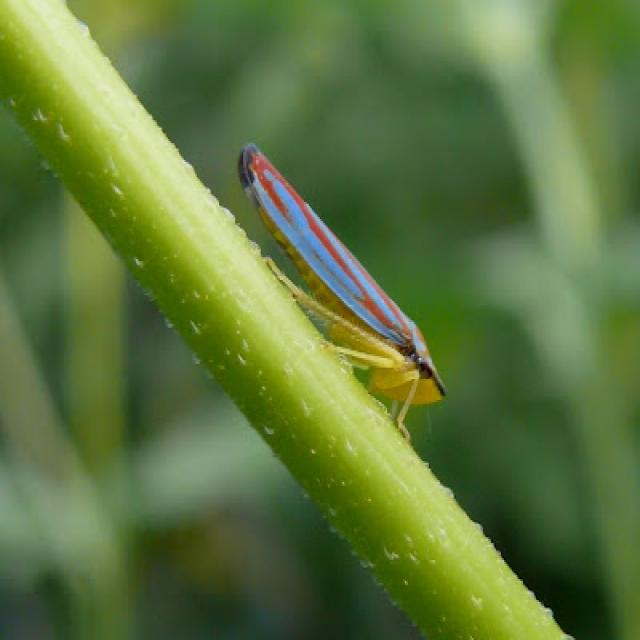Yechan: (228, 131, 452, 439)
